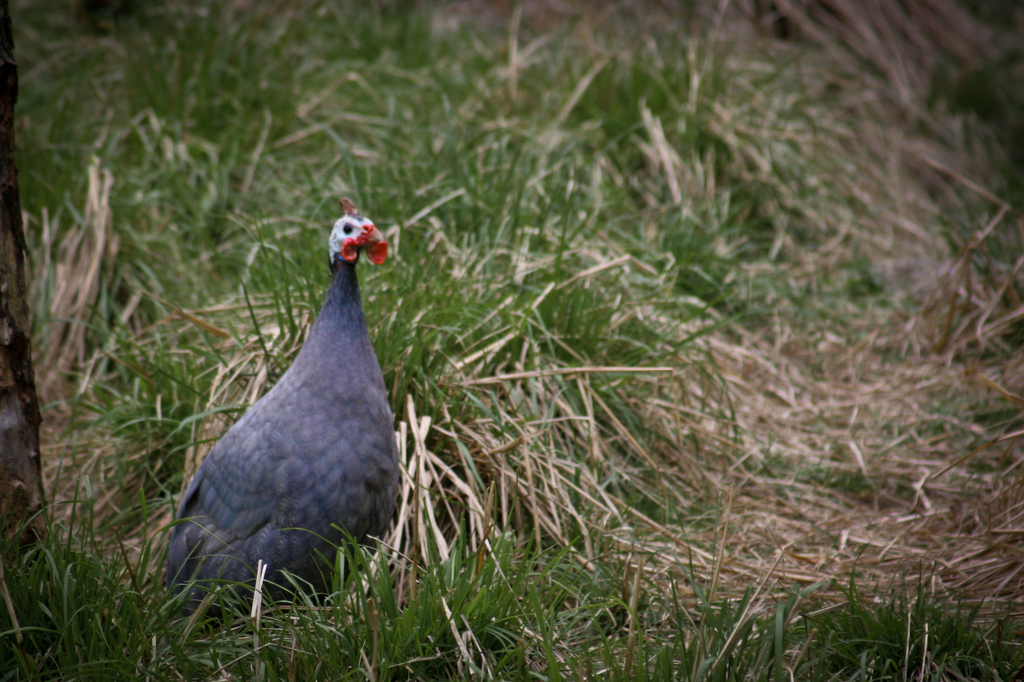Bird: (166, 196, 402, 649)
